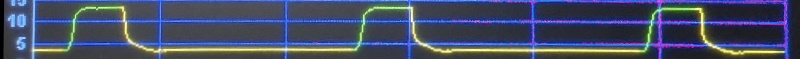normal_pressure: (29, 1, 800, 59)
